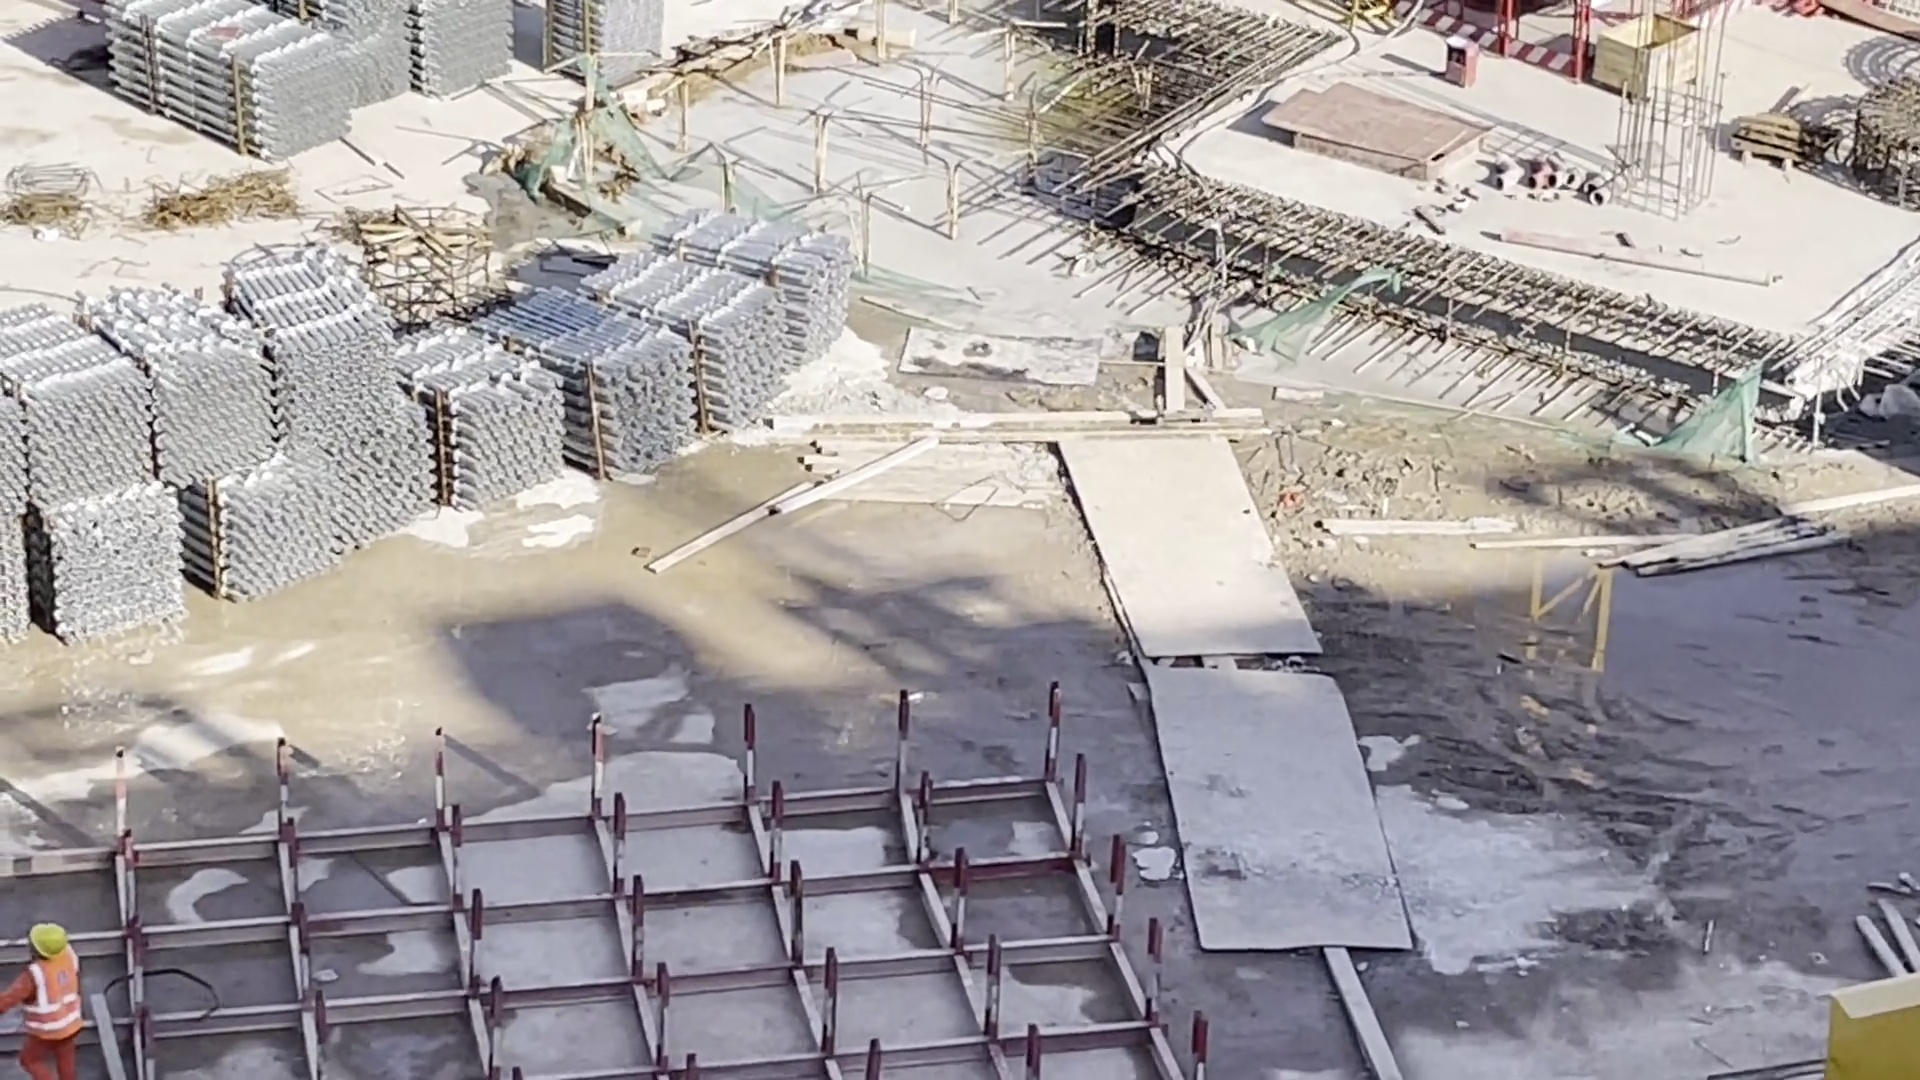board: (1256, 82, 1497, 172)
helmet: (15, 912, 75, 964)
person: (9, 914, 95, 1080)
scaffold: (1, 202, 856, 633), (81, 1, 515, 161), (545, 1, 672, 90)
vest: (14, 962, 91, 1046)
